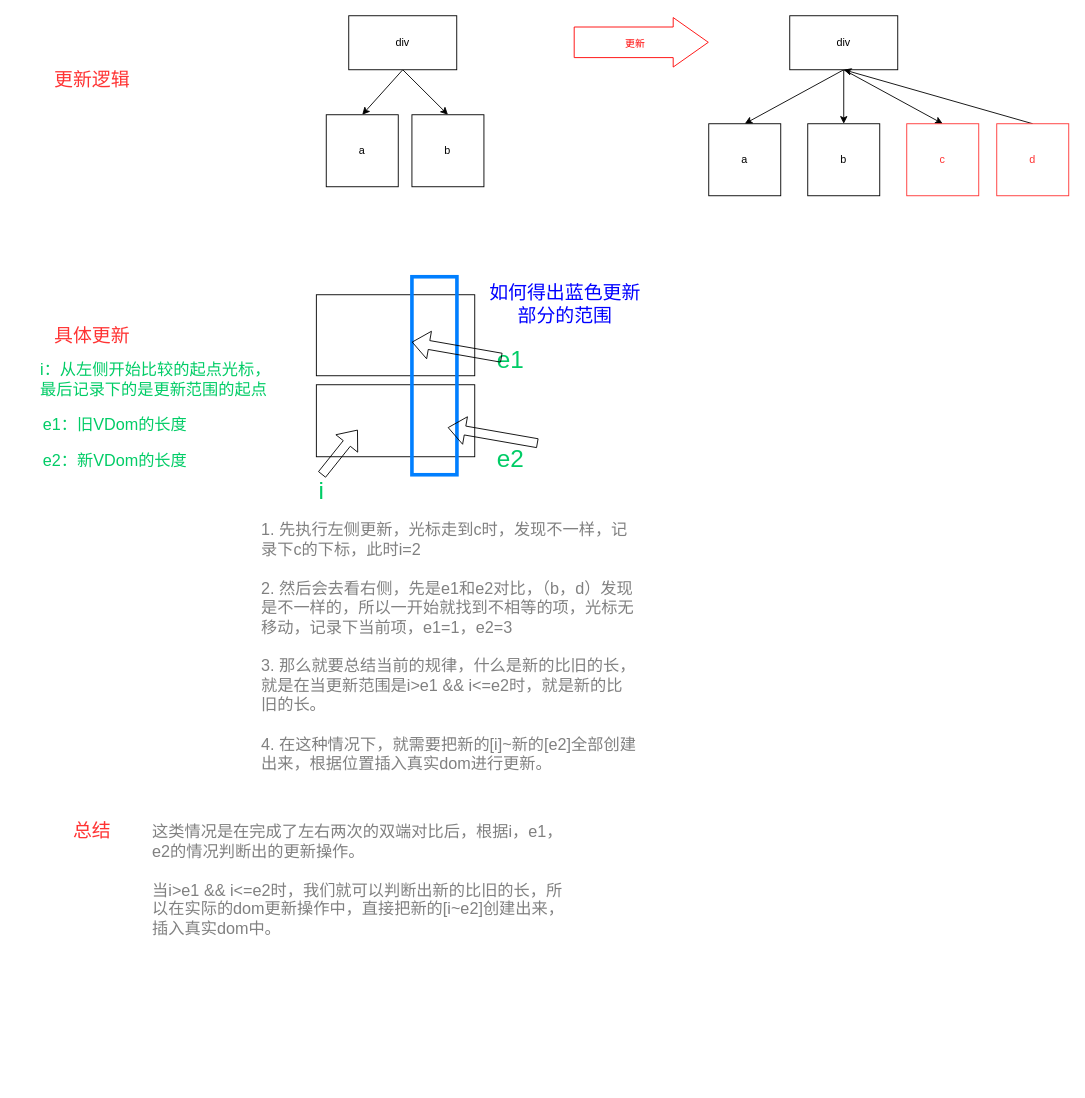
This 1085x1098 diagram has some shape labels left out. The shapes that lost their labels are listed below. From the top down, each one's box as (x1, y1, x2, y2) in pixels, then its label:
(315, 294, 475, 376): (a b)
(315, 384, 475, 457): (a b) c d
